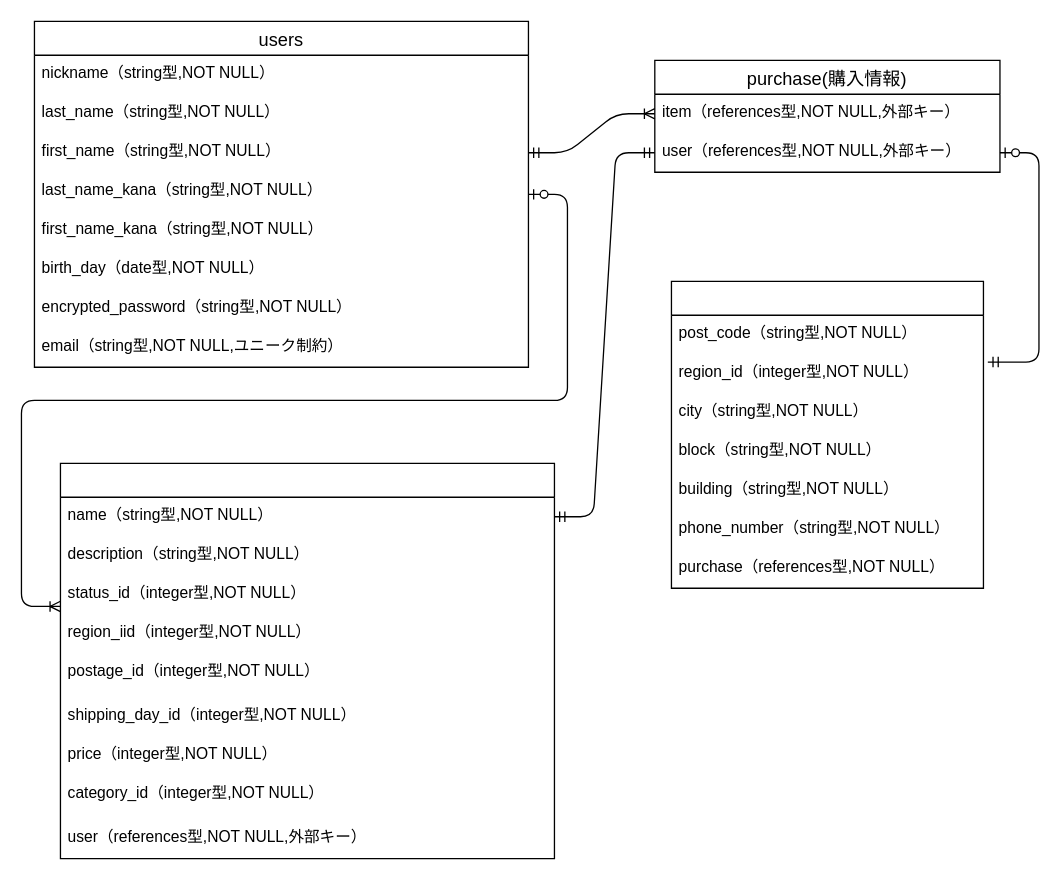
The diagram is 1061 pixels wide and 880 high, and some of its shapes have lost their labels. The shapes that lost their labels are listed below. From the top down, each one's box as (x1, y1, x2, y2) in pixels, then its label:
(670, 280, 983, 588): shipping_adress（発送先情報）
(59, 462, 554, 859): items(出品商品情報)
